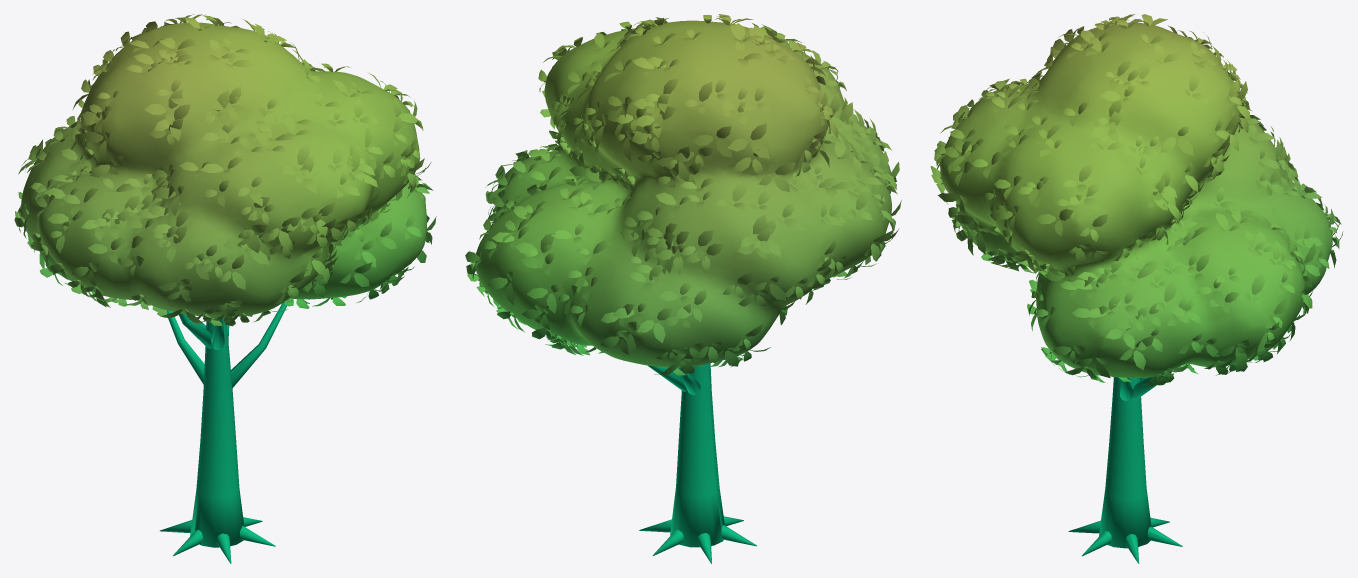
The model's file is beech_reference_a.glb.
3 views of the same model, side by side, from view 1: azimuth 30°, elevation 25°; view 2: azimuth 150°, elevation 25°; view 3: azimuth 270°, elevation 25° (orthographic). The views are drawn at different scales.
Visible parts, largest first — view 1: beech_reference_a_Leaves, beech_reference_a_Bark; view 2: beech_reference_a_Leaves, beech_reference_a_Bark; view 3: beech_reference_a_Leaves, beech_reference_a_Bark.
Part boxes in pixels (left/top/right/bottom): beech_reference_a_Leaves: left=14, top=14, right=436, bottom=326; beech_reference_a_Bark: left=160, top=302, right=286, bottom=563; beech_reference_a_Leaves: left=465, top=14, right=901, bottom=375; beech_reference_a_Bark: left=639, top=363, right=756, bottom=563; beech_reference_a_Leaves: left=930, top=14, right=1343, bottom=387; beech_reference_a_Bark: left=1068, top=371, right=1182, bottom=563.
Bounding box in the file's own units: 10.03 × 12.5 × 9.35.
